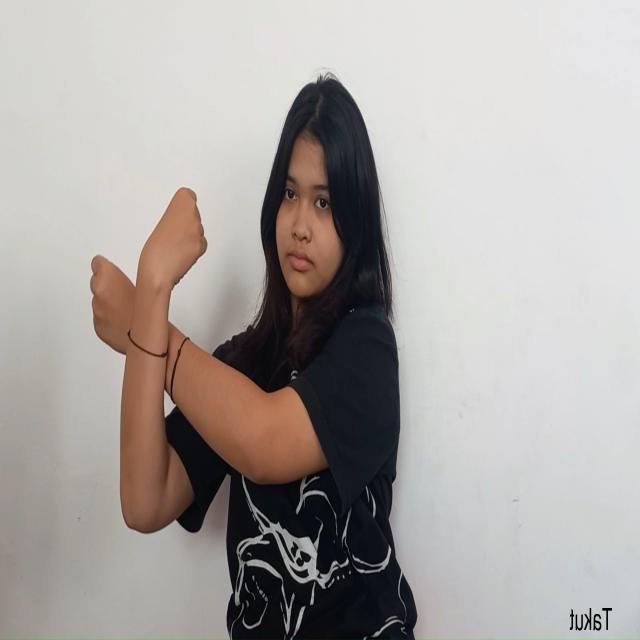Takut -BISINDO-: (89, 186, 208, 432)
